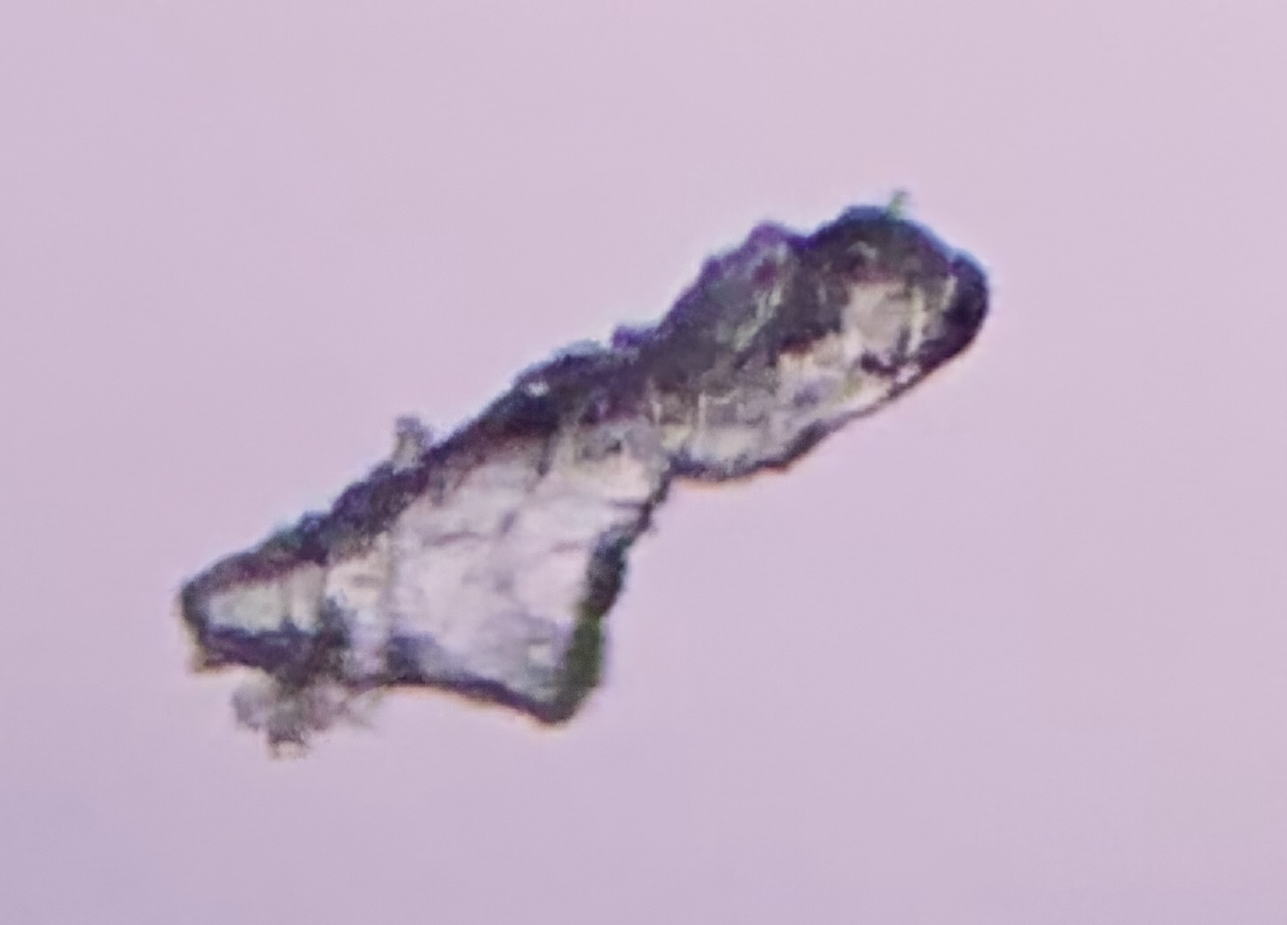microplastic: (176, 191, 989, 759)
